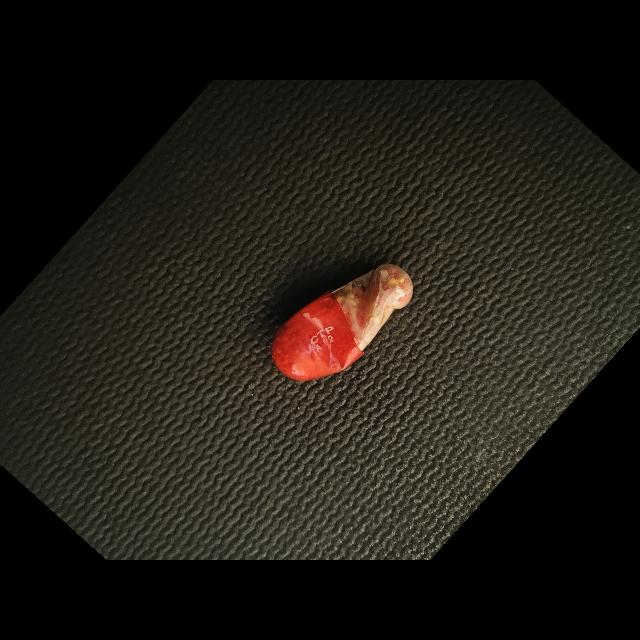Defective Capsule: (272, 264, 413, 381)
